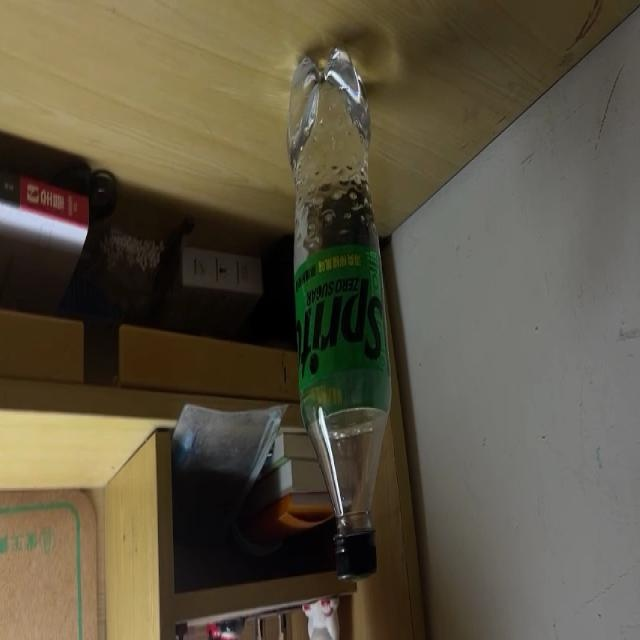Sprite: (286, 49, 392, 582)
